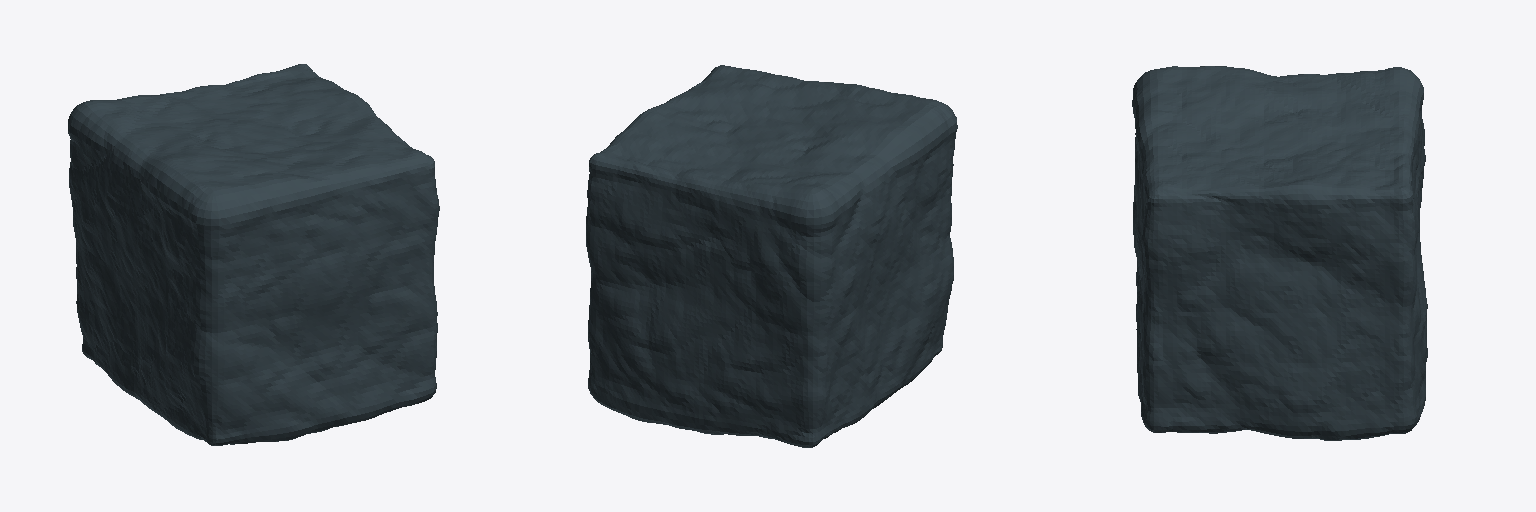
File: Ice.obj
3 views of the same model, side by side, from view 1: azimuth 30°, elevation 25°; view 2: azimuth 150°, elevation 25°; view 3: azimuth 270°, elevation 25° (orthographic).
Parts seen in each view (by area): view 1: Cube_Mesh; view 2: Cube_Mesh; view 3: Cube_Mesh.
Part boxes in pixels (left/top/right/bottom): Cube_Mesh: left=68, top=64, right=439, bottom=445; Cube_Mesh: left=586, top=65, right=957, bottom=447; Cube_Mesh: left=1132, top=66, right=1427, bottom=440.
Size of the model in its own units: 2.1 by 2.14 by 2.11.